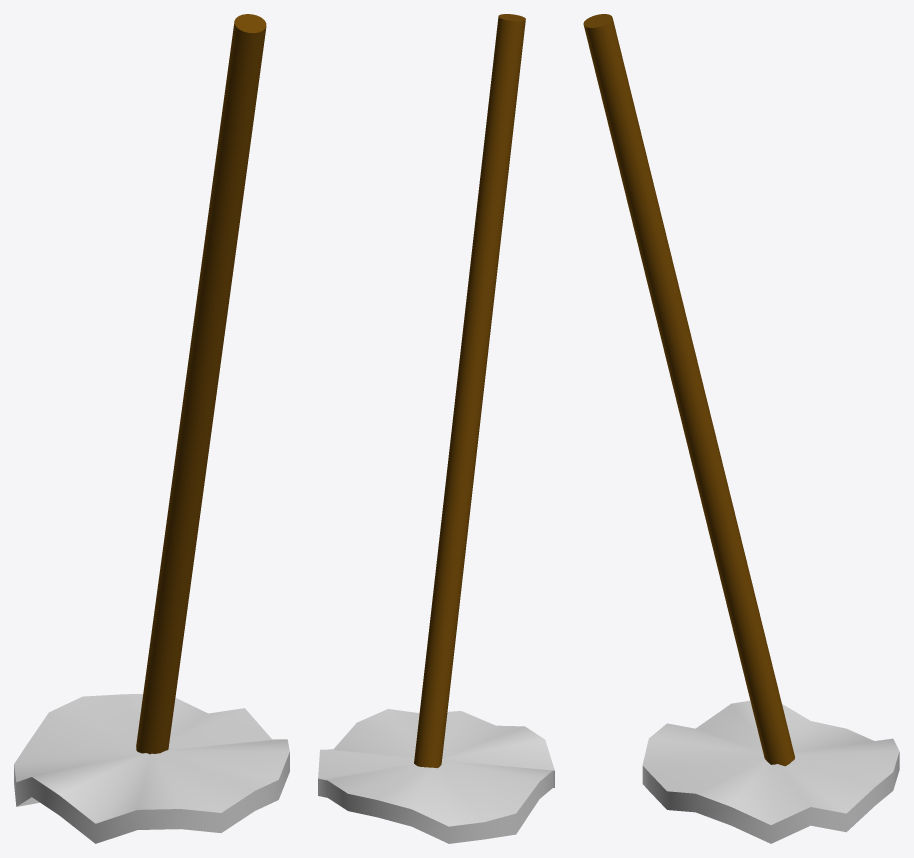
The model's file is Mop model.fbx.
3 views of the same model, side by side, from view 1: azimuth 30°, elevation 25°; view 2: azimuth 150°, elevation 25°; view 3: azimuth 270°, elevation 25° (orthographic). The views are drawn at different scales.
Parts seen in each view (by area): view 1: pCylinderShape3; view 2: pCylinderShape3; view 3: pCylinderShape3.
Part boxes in pixels (x1=…): pCylinderShape3: x1=14, y1=14, x2=289, y2=843; pCylinderShape3: x1=318, y1=14, x2=554, y2=843; pCylinderShape3: x1=583, y1=14, x2=899, y2=843.
Bounding box in the file's own units: 2 × 6.69 × 2.46.
